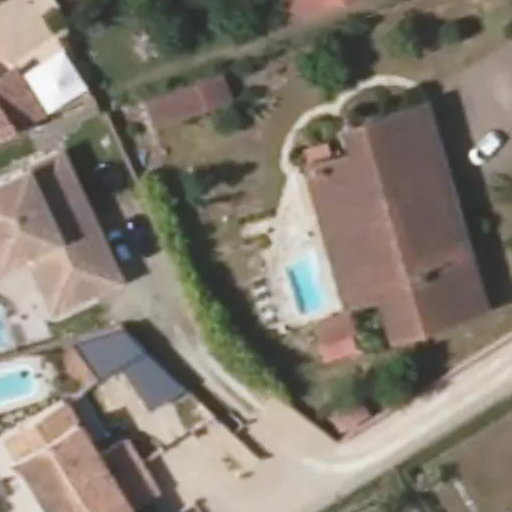pool: (230, 214, 279, 272)
